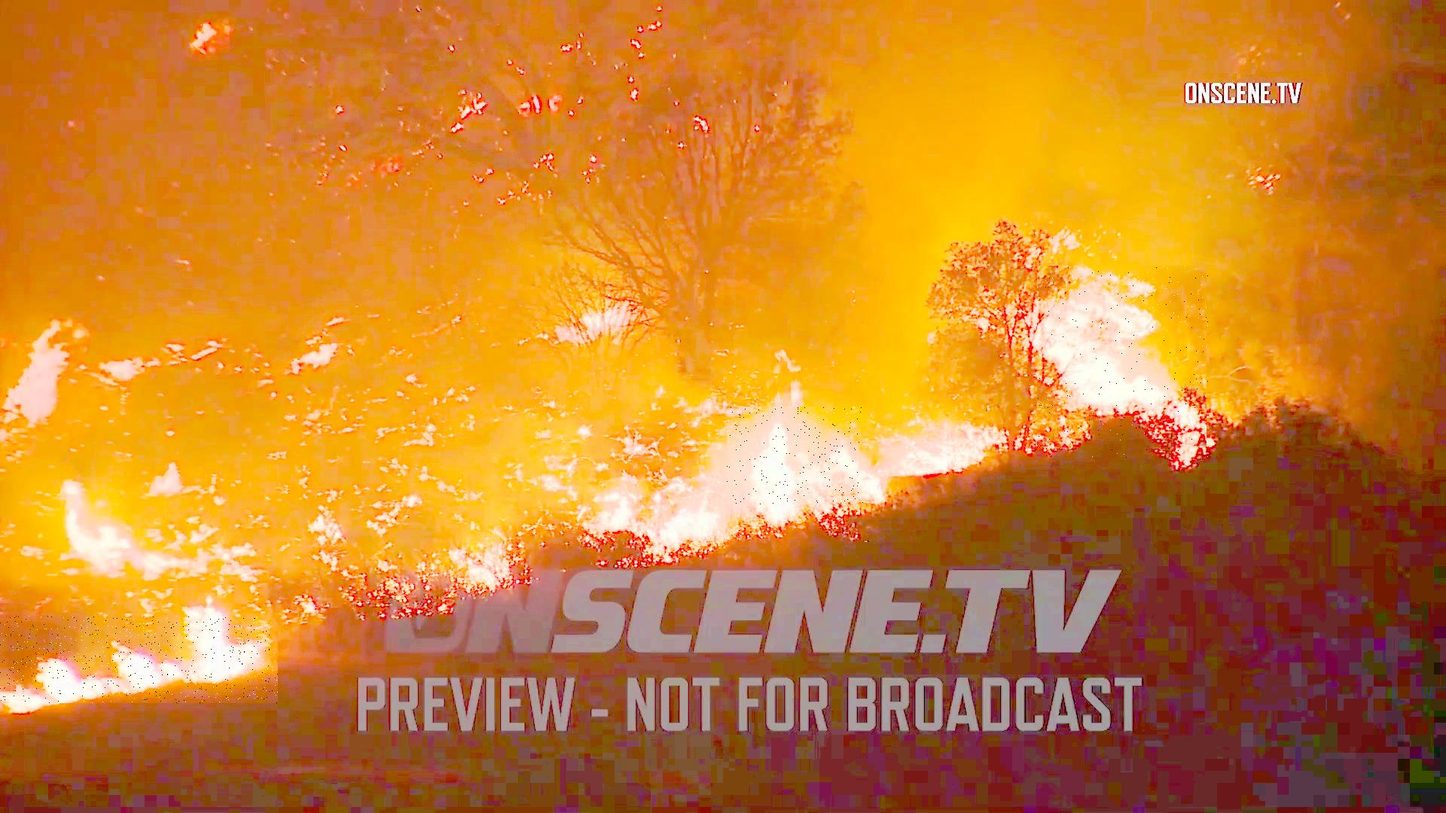fire: (1038, 266, 1209, 459), (0, 616, 278, 703), (727, 407, 865, 505)
